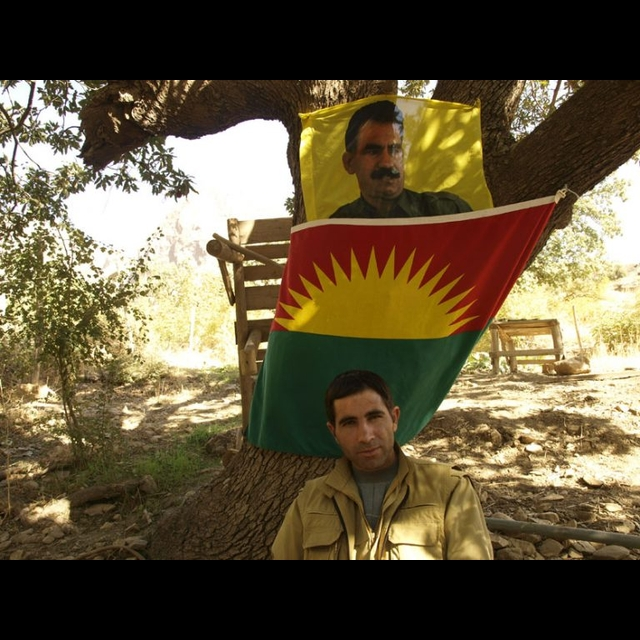APO: (341, 109, 424, 198)
PJAK: (279, 244, 477, 371)
